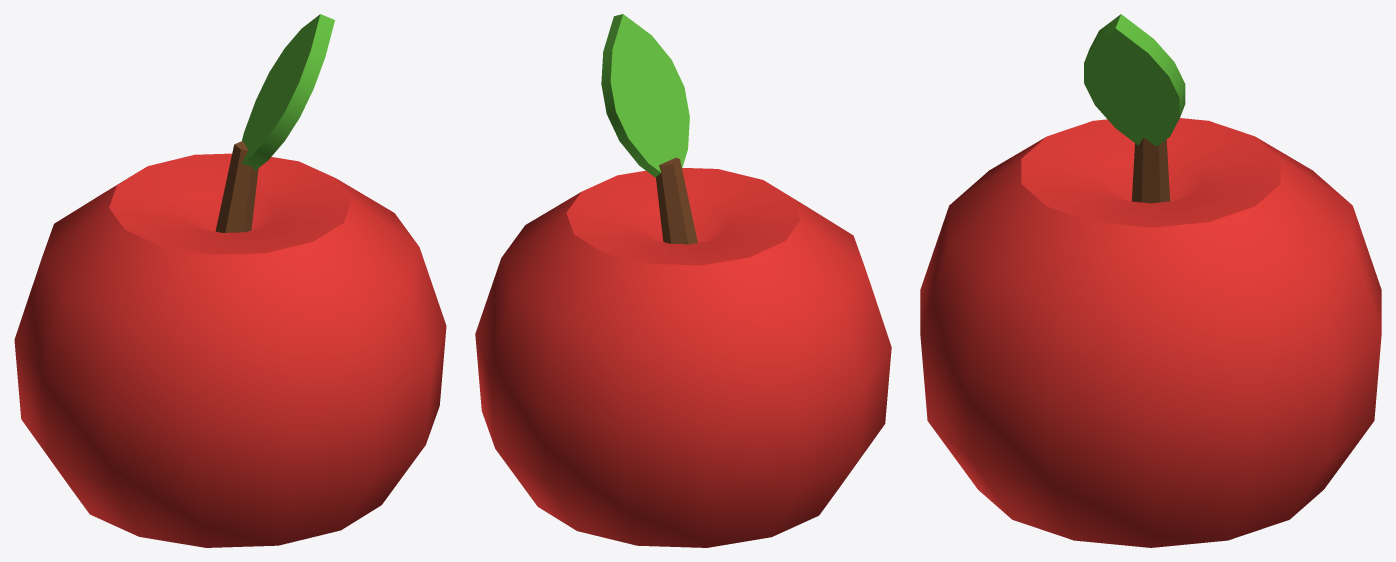
The model's file is Apple.fbx.
The picture shows the model from 3 angles, left to right: view 1: azimuth 30°, elevation 25°; view 2: azimuth 150°, elevation 25°; view 3: azimuth 270°, elevation 25°; orthographic projection. The views are drawn at different scales.
Parts seen in each view (by area): view 1: Apple; view 2: Apple; view 3: Apple.
Part boxes in pixels (bbox=[...]): Apple: bbox=[14, 14, 446, 547]; Apple: bbox=[475, 14, 891, 547]; Apple: bbox=[920, 14, 1381, 547].
Size of the model in its own units: 1.28 by 1.56 by 1.25.
1 material, 1 textured.
